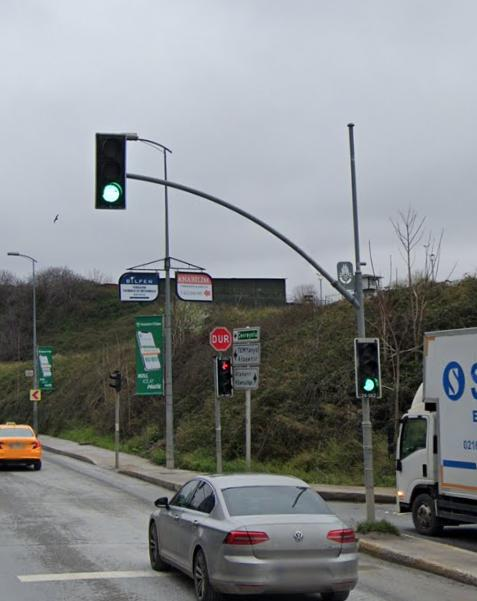greenlight: (95, 132, 130, 207), (359, 339, 379, 396)
redlight: (219, 354, 232, 392)
stop: (208, 327, 232, 351)
